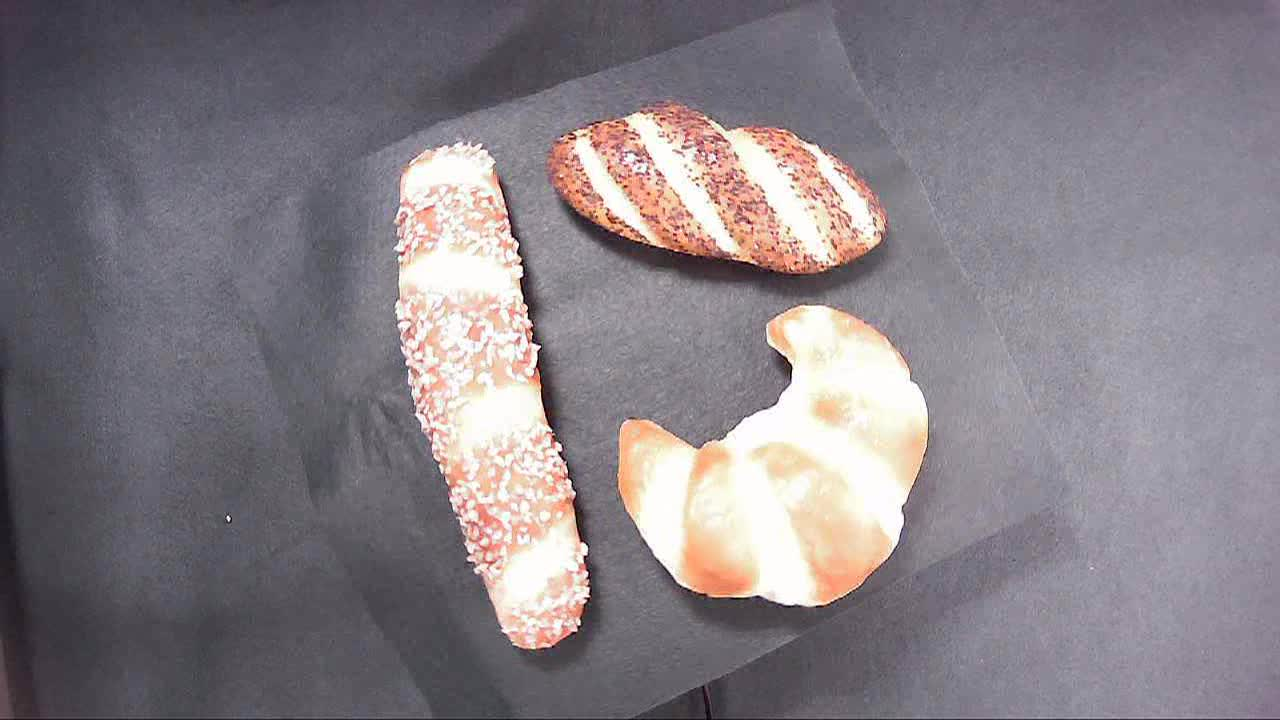cow: (601, 297, 942, 612)
long: (373, 135, 545, 658), (414, 381, 592, 661)
slash: (537, 109, 932, 282)
